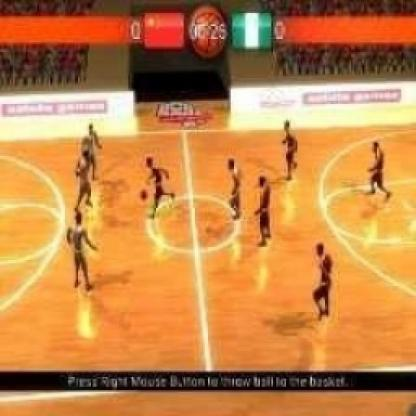basketball: (138, 188, 149, 201)
